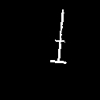double_crochet: (50, 10, 65, 63)
